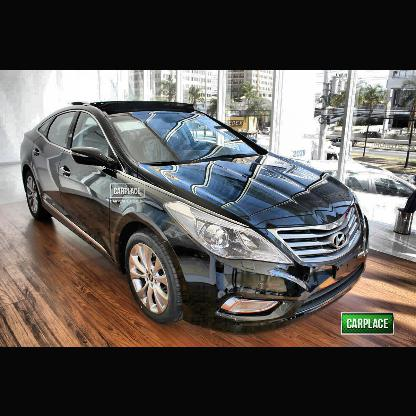Hyundai Azera Sedan 2012: (18, 98, 372, 334)
